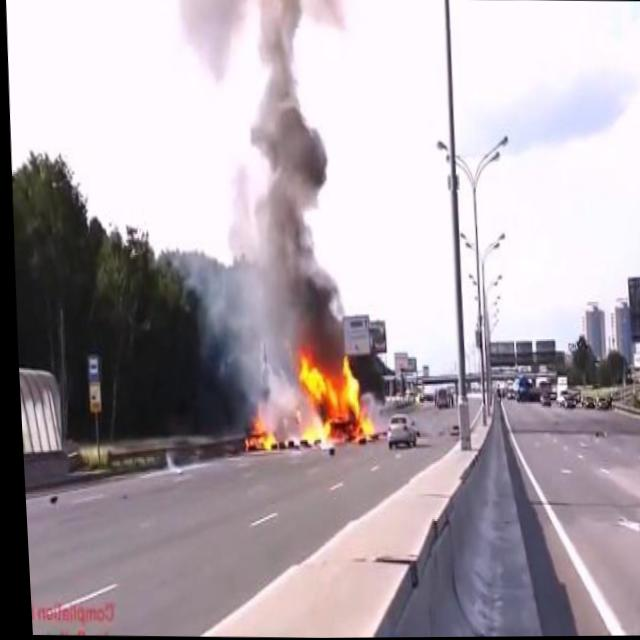fire: (280, 350, 372, 448), (234, 413, 277, 455)
